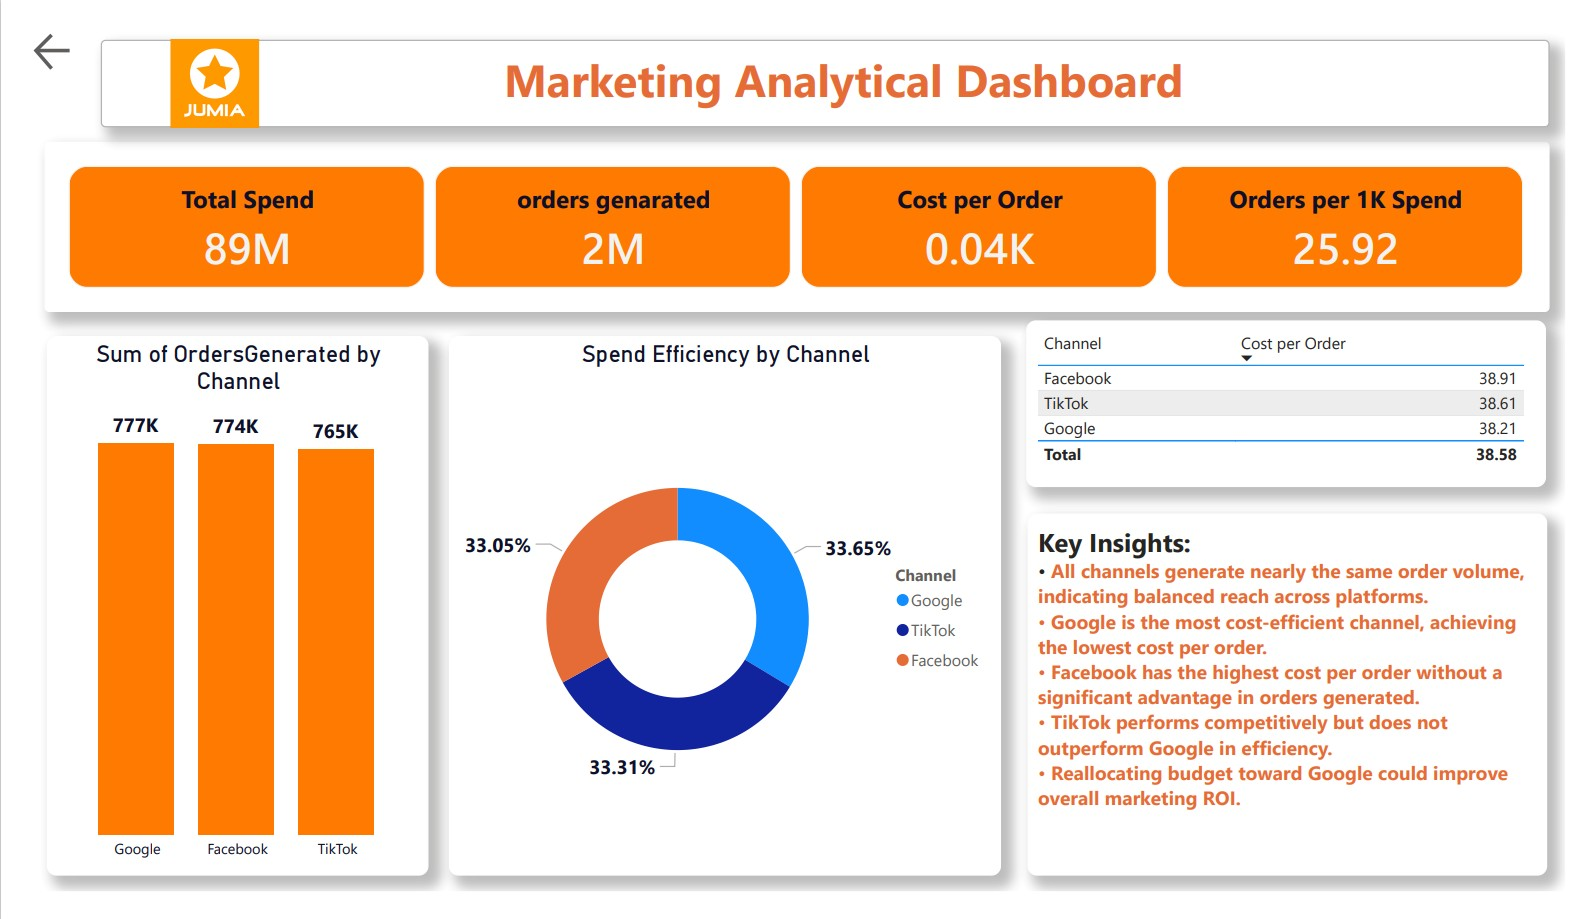

This screenshot's page, from the dashboard's own definition file:
{"tool":"powerbi","page":{"name":"Marketing","canvas":[1280,720],"ordinal":3},"visuals":[{"type":"actionButton","box":[0,0,61.7,40],"z":0},{"type":"cardVisual","fields":{"Data":["Fact_Marketing.Total Spend","Fact_Marketing.orders genarated","Fact_Marketing.Cost per Order","Fact_Marketing.Orders per 1K Spend"]},"box":[13.3,95,1253.3,141.7],"z":1000},{"type":"columnChart","fields":{"Category":["Fact_Marketing.Channel"],"Y":["Sum(Fact_Marketing.OrdersGenerated)"]},"box":[15,256.7,318.3,450],"z":2000},{"type":"donutChart","fields":{"Category":["Fact_Marketing.Channel"],"Y":["Fact_Marketing.Spend Efficiency"]},"box":[350,256.7,460,450],"z":3000},{"type":"tableEx","fields":{"Values":["Fact_Marketing.Channel","Fact_Marketing.Cost per Order"]},"box":[831.3,243.8,433.1,139.3],"z":4000},{"type":"textbox","box":[831.7,405,433.3,301.7],"z":5000},{"type":"group","id":"g1","title":"Group 1","box":[60,10,1206.7,73.3],"z":6000},{"type":"textbox","box":[60,10,1206.7,73.3],"z":14000,"group":"g1"},{"type":"image","box":[60,10,189.3,73.3],"z":14500,"group":"g1"}]}

Visuals, with their boxes in screenshot pixels (x1, y1, x2, y2), scaled from the page's 1280x720 canvas onto the 1591x919 screenshot:
actionButton: 0:0:77:51
cardVisual - Fact_Marketing.Total Spend x Fact_Marketing.orders genarated: 17:121:1574:302
columnChart - Fact_Marketing.Channel x Sum(Fact_Marketing.OrdersGenerated): 19:328:414:902
donutChart - Fact_Marketing.Channel x Fact_Marketing.Spend Efficiency: 435:328:1007:902
tableEx - Fact_Marketing.Channel x Fact_Marketing.Cost per Order: 1033:311:1572:489
textbox: 1034:517:1572:902
"Group 1" group: 75:13:1574:106
textbox: 75:13:1574:106
image: 75:13:310:106
